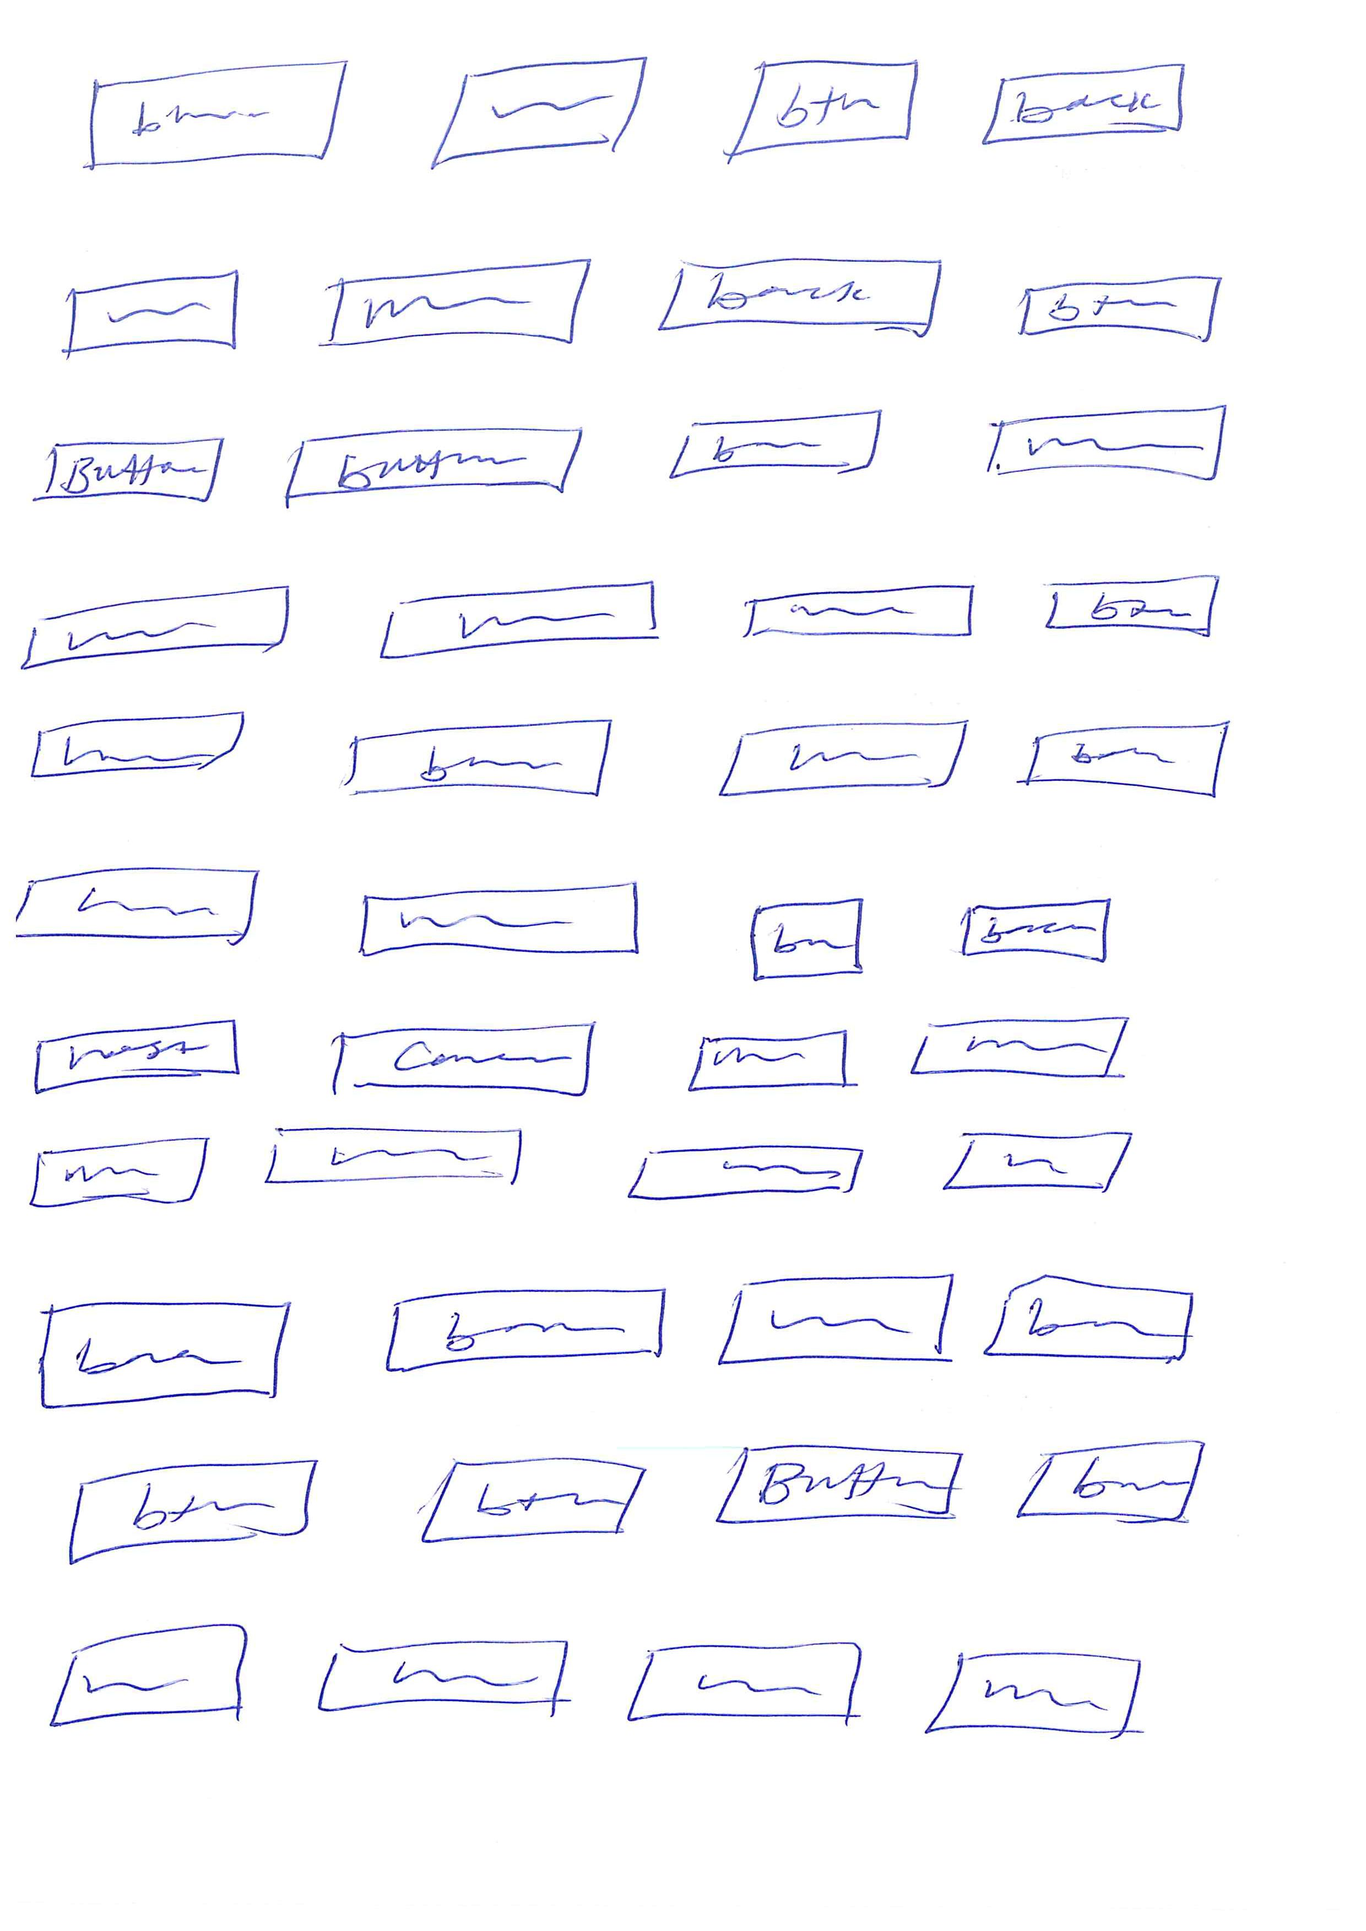Button: (81, 52, 350, 176), (321, 251, 591, 367), (34, 1300, 293, 1411), (67, 1456, 319, 1566), (426, 49, 650, 172), (652, 251, 949, 337), (381, 1286, 673, 1374), (711, 1437, 965, 1530), (356, 877, 645, 957), (341, 716, 616, 798), (974, 1266, 1203, 1365), (721, 58, 922, 167), (415, 1452, 648, 1547), (284, 426, 587, 498), (324, 1022, 602, 1099), (988, 401, 1231, 486), (977, 59, 1192, 149), (1014, 1436, 1211, 1529), (59, 265, 242, 356), (1022, 722, 1234, 798), (667, 407, 884, 481), (1016, 268, 1224, 342), (38, 435, 226, 509), (1044, 569, 1223, 639), (959, 896, 1115, 964)
